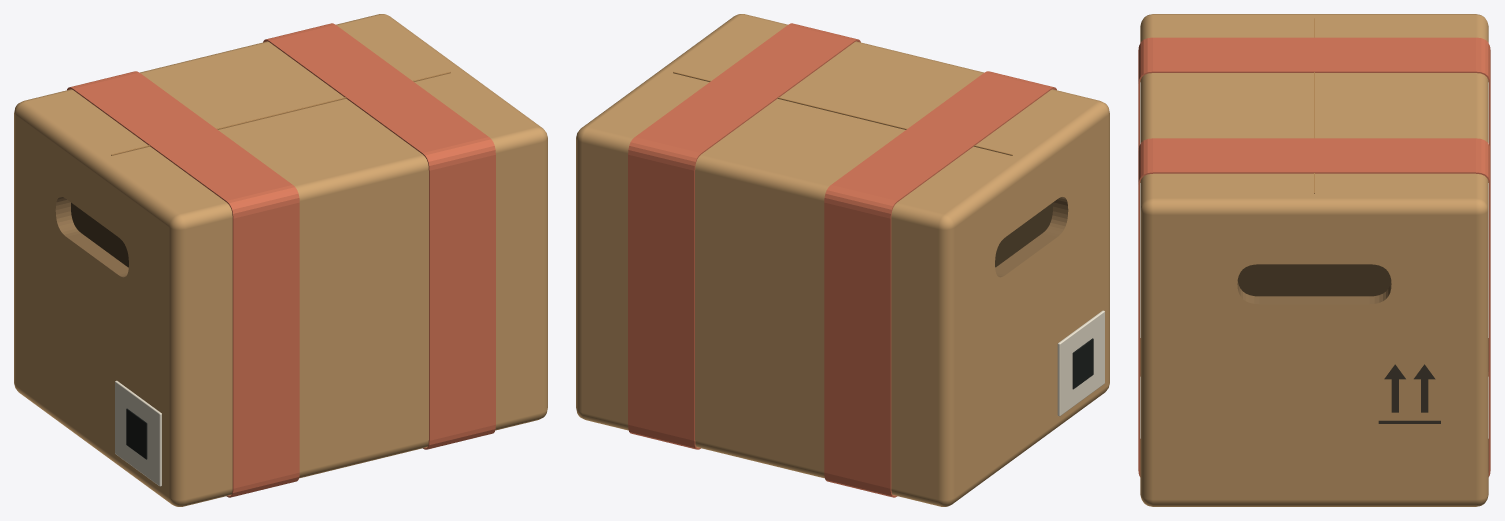
Rendered from play-parcel-large-coral.glb.
The picture shows the model from 3 angles, left to right: view 1: azimuth 30°, elevation 25°; view 2: azimuth 150°, elevation 25°; view 3: azimuth 270°, elevation 25°; orthographic projection. The views are drawn at different scales.
Visible parts, largest first — view 1: Parcel_Carton, Parcel_Tape_Parallel_1, Parcel_Tape_Parallel_2, Parcel_Paper_Label, Parcel_Carry_Slot_Walls_Negative_X, Parcel_Carry_Slot_Interior_Negative_X, Parcel_Label_Square; view 2: Parcel_Carton, Parcel_Tape_Parallel_1, Parcel_Tape_Parallel_2, Parcel_Paper_Label, Parcel_Carry_Slot_Walls_Negative_X, Parcel_Carry_Slot_Interior_Negative_X, Parcel_Label_Square; view 3: Parcel_Carton, Parcel_Tape_Parallel_2, Parcel_Tape_Parallel_1, Parcel_Carry_Slot_Interior_Positive_X, Parcel_Carry_Slot_Walls_Positive_X, Parcel_Up_Arrows_Positive_X.
Part boxes in pixels (x1,y1,x2,y2): Parcel_Carton: (14, 14, 547, 506); Parcel_Tape_Parallel_1: (67, 71, 299, 497); Parcel_Tape_Parallel_2: (263, 23, 495, 449); Parcel_Paper_Label: (115, 380, 161, 486); Parcel_Carry_Slot_Walls_Negative_X: (55, 197, 128, 277); Parcel_Carry_Slot_Interior_Negative_X: (71, 202, 128, 267); Parcel_Label_Square: (126, 408, 147, 459); Parcel_Carton: (576, 14, 1109, 506); Parcel_Tape_Parallel_1: (824, 71, 1056, 497); Parcel_Tape_Parallel_2: (628, 23, 860, 449); Parcel_Paper_Label: (1057, 310, 1104, 416); Parcel_Carry_Slot_Walls_Negative_X: (995, 197, 1068, 277); Parcel_Carry_Slot_Interior_Negative_X: (995, 202, 1052, 267); Parcel_Label_Square: (1072, 338, 1093, 389); Parcel_Carton: (1140, 14, 1488, 506); Parcel_Tape_Parallel_2: (1138, 138, 1490, 476); Parcel_Tape_Parallel_1: (1138, 37, 1490, 376); Parcel_Carry_Slot_Interior_Positive_X: (1237, 264, 1391, 296); Parcel_Carry_Slot_Walls_Positive_X: (1237, 281, 1391, 304); Parcel_Up_Arrows_Positive_X: (1378, 364, 1440, 423).
Size of the model in its own units: 0.253 by 0.187 by 0.192.
